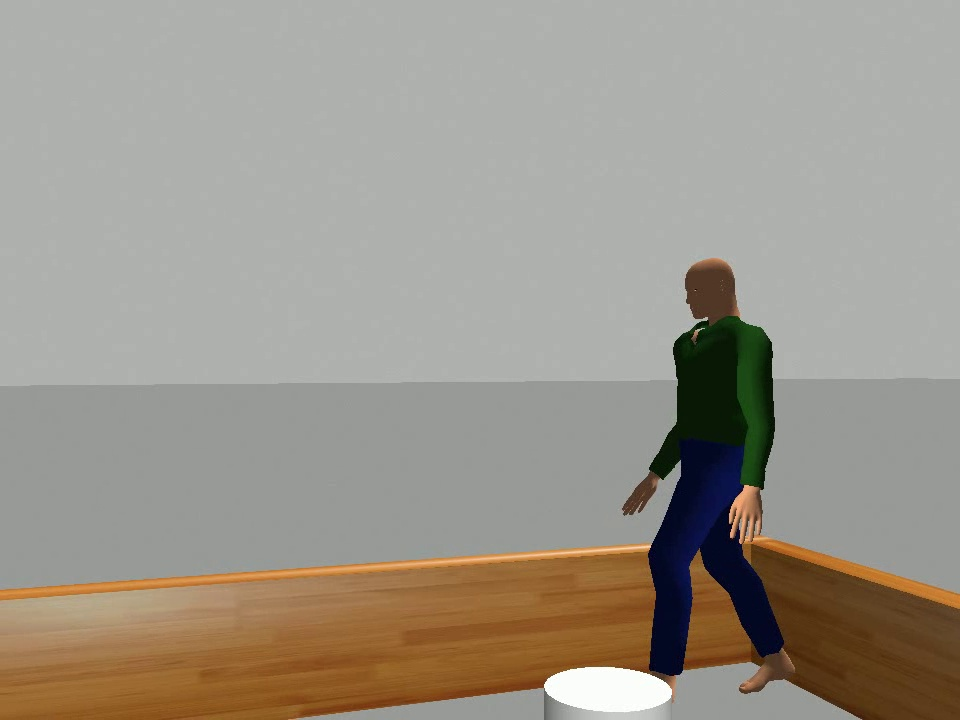person: (618, 253, 797, 700)
